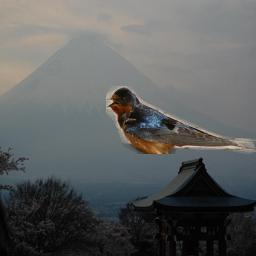Swallow: (106, 86, 256, 154)
